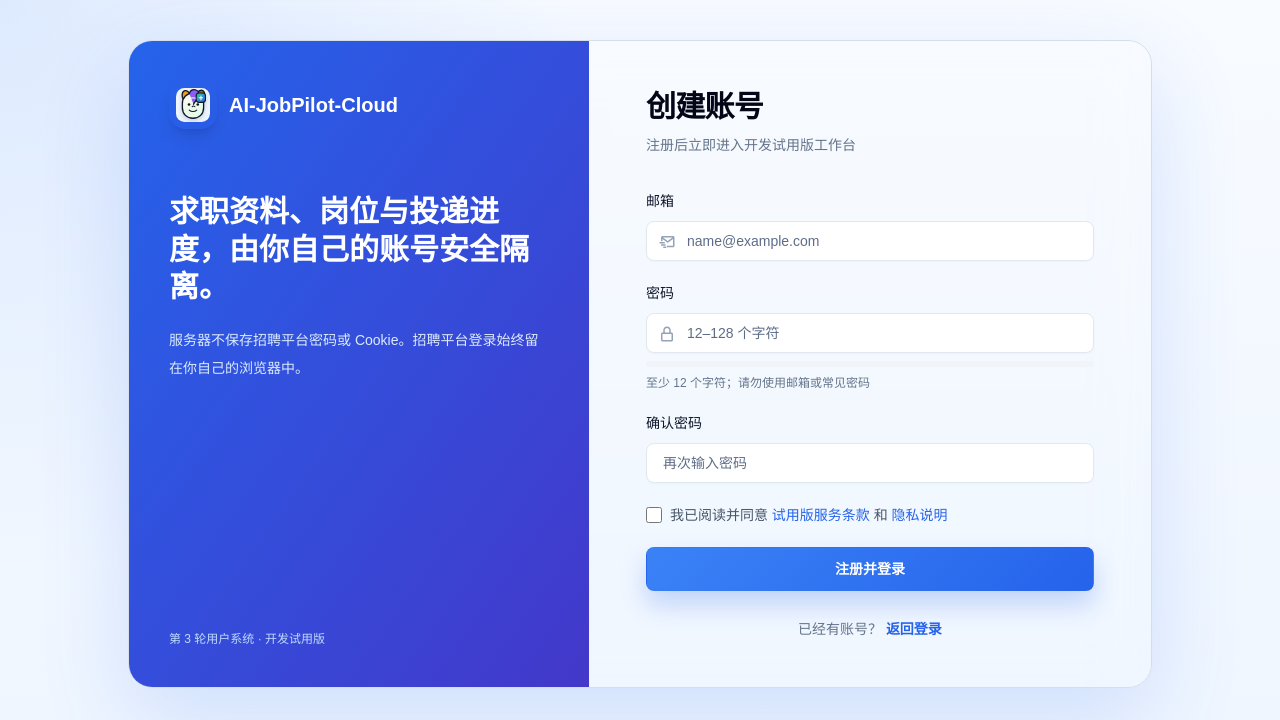
Scenario: 登录和注册表单 › 注册时阻止两次密码不一致
Type "person@example.com" into the field labelled "邮箱" at (870, 241), box [646,221,1094,261]
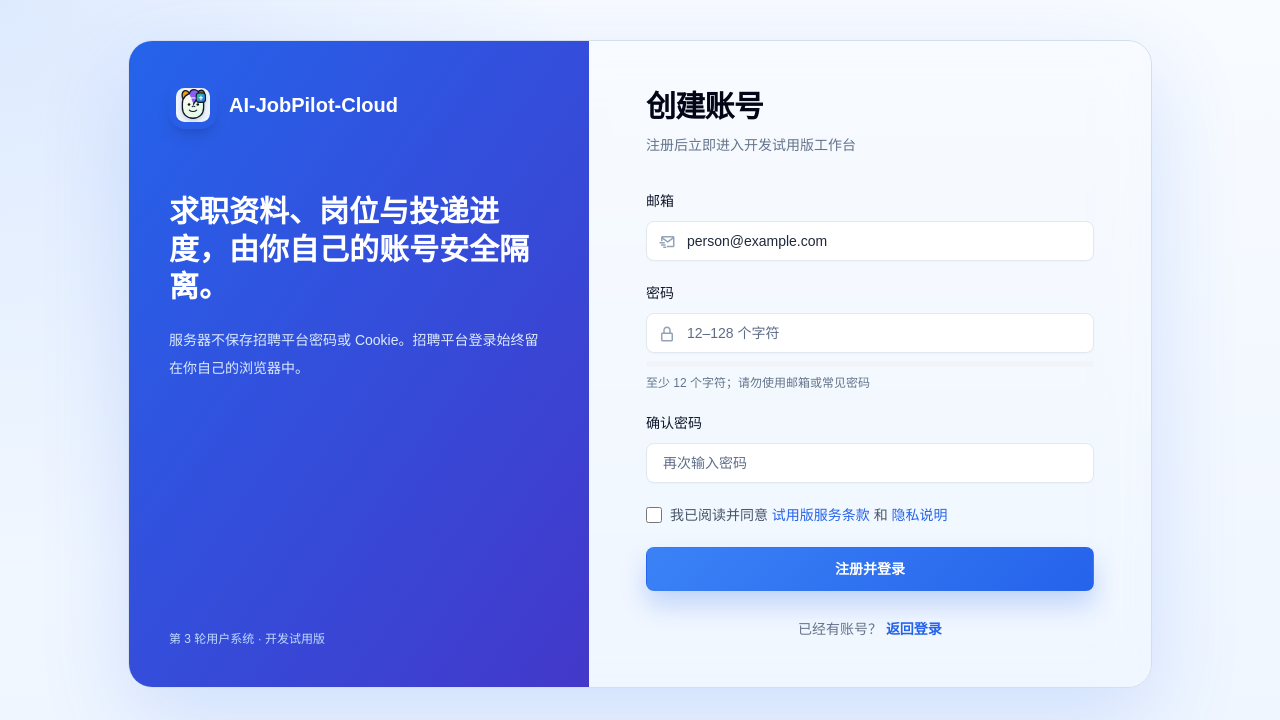
Type "StrongPassword!2026" into the password field labelled "密码" at (870, 333), box [646,313,1094,353]
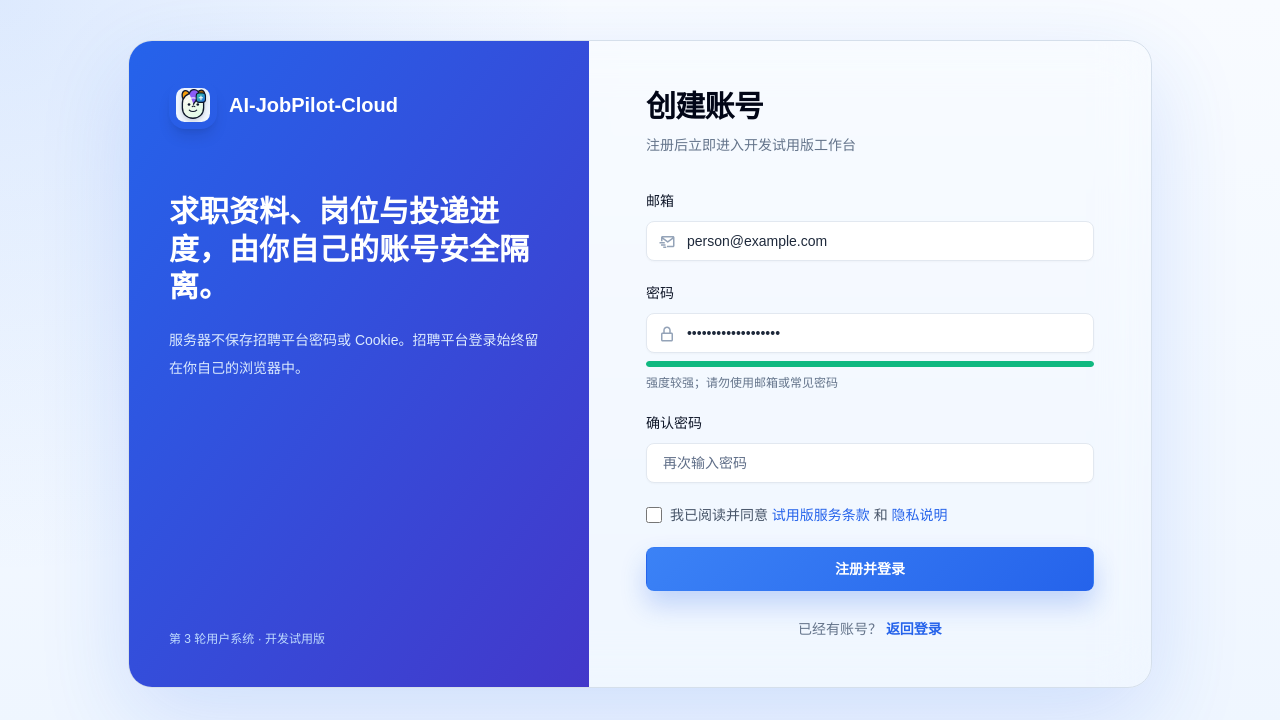
Type "AnotherPassword!2026" into the password field labelled "确认密码" at (870, 463), box [646,443,1094,483]
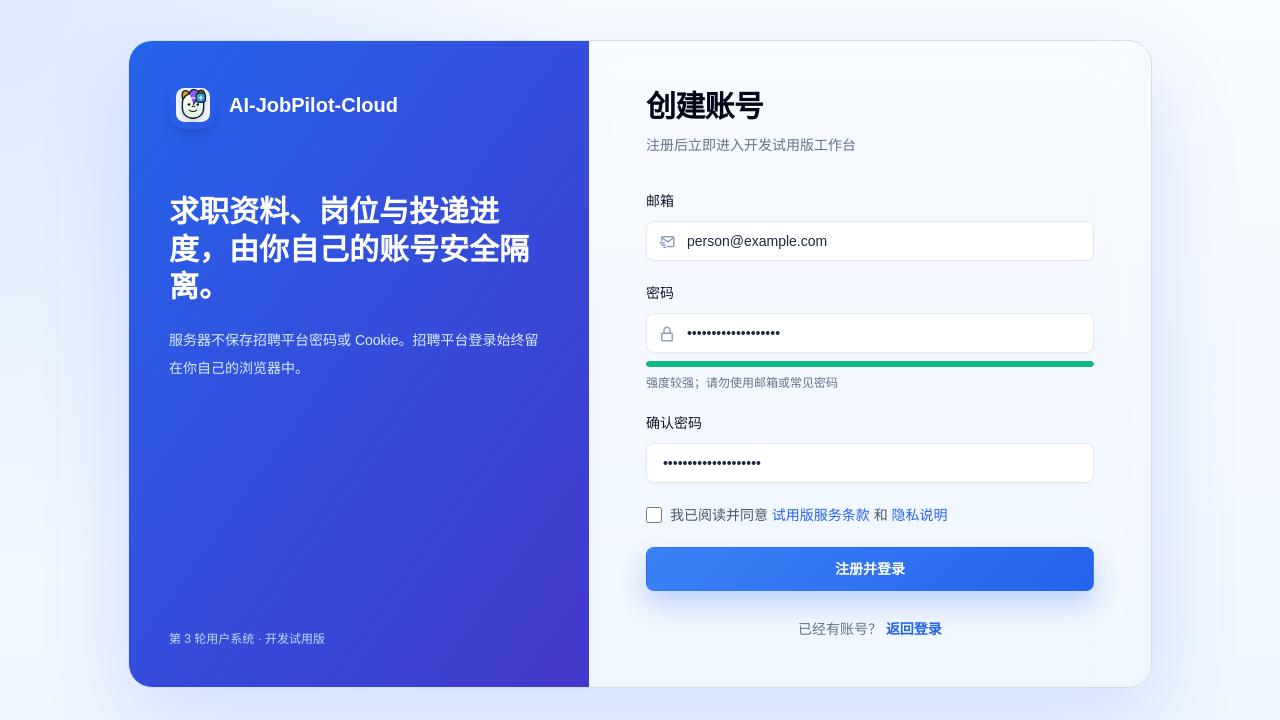
Click the checkbox at (654, 515), box [646,507,662,523]
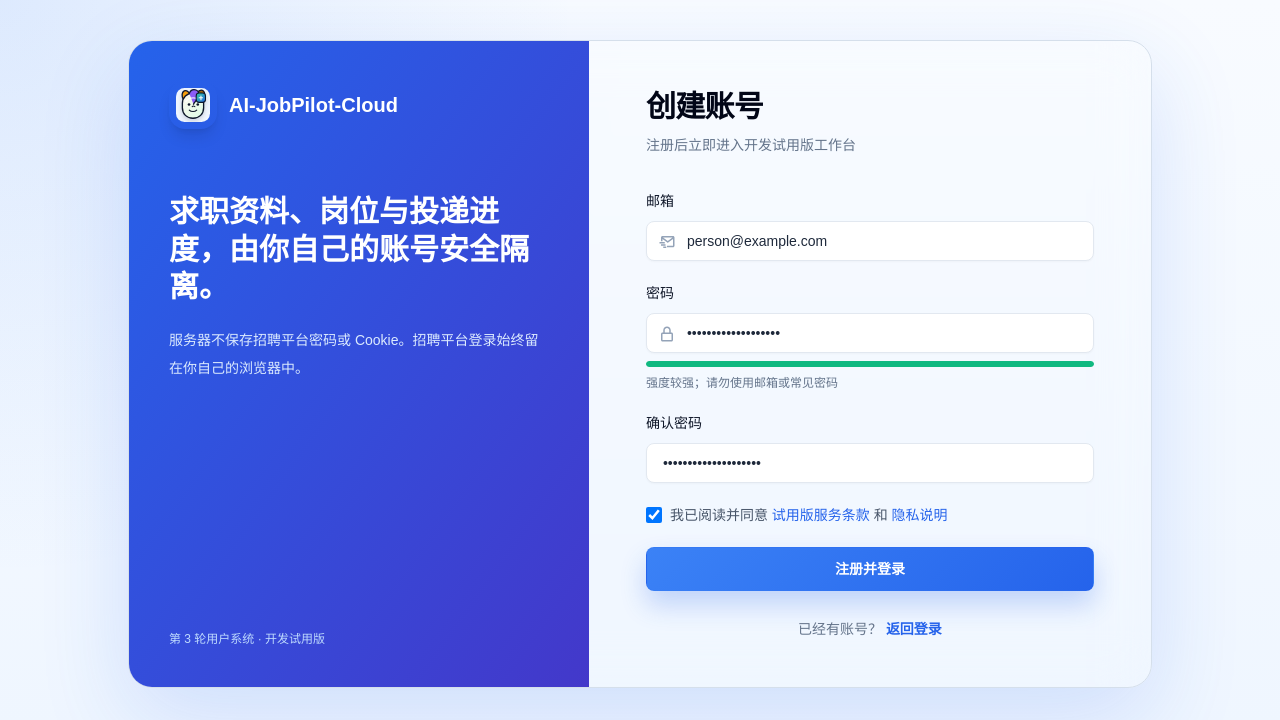
Click the button "注册并登录" at (870, 569), box [646,547,1094,591]
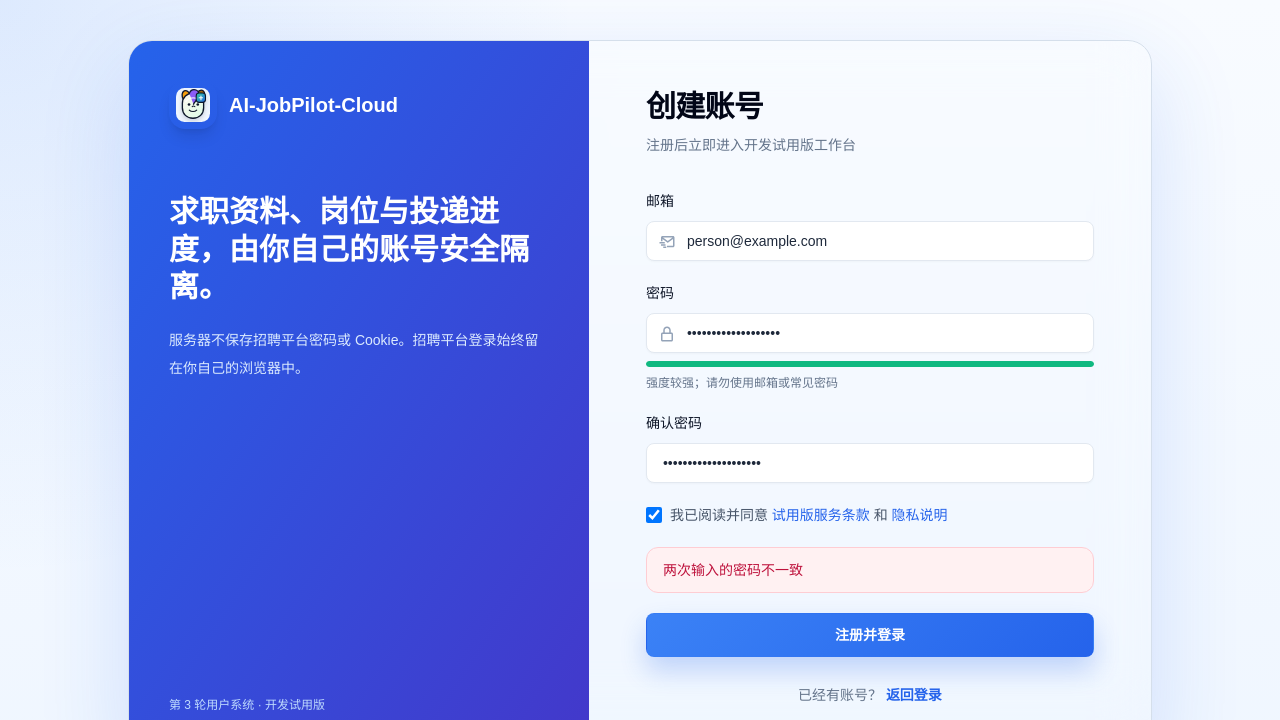
Now the message reads "两次输入的密码不一致", box [663,562,803,578]
